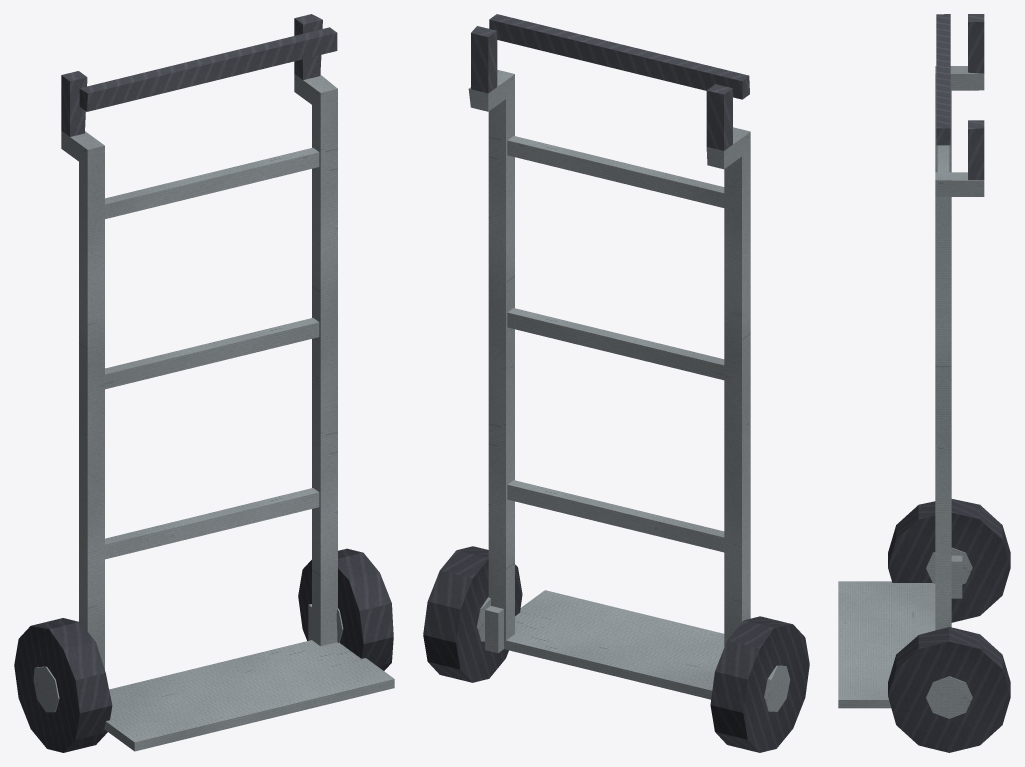
File: handtruck_v4.glb
3 views of the same model, side by side, from view 1: azimuth 30°, elevation 25°; view 2: azimuth 150°, elevation 25°; view 3: azimuth 270°, elevation 25° (orthographic). The views are drawn at different scales.
Parts seen in each view (by area): view 1: Variant_handtruck_4; view 2: Variant_handtruck_4; view 3: Variant_handtruck_4.
Boxes of the visible parts, x1,y1,x2,y2 form: Variant_handtruck_4: [14, 14, 394, 752]; Variant_handtruck_4: [423, 14, 809, 752]; Variant_handtruck_4: [838, 14, 1010, 752].
Size of the model in its own units: 0.5928 by 1.15 by 0.295.
Materials: 3 (3 with a texture image).
